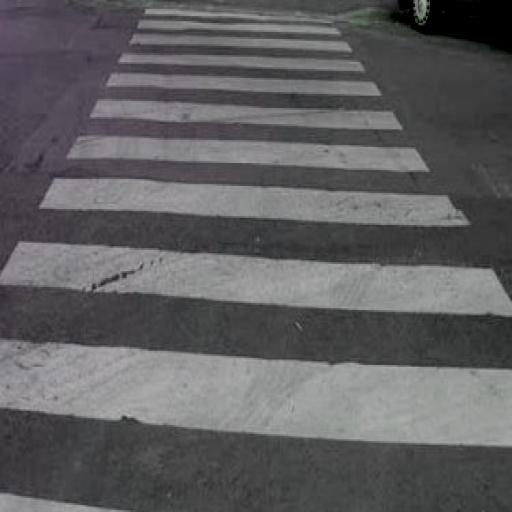crosswalk: (1, 239, 511, 457), (14, 129, 478, 225), (94, 51, 398, 103), (126, 4, 352, 40)
